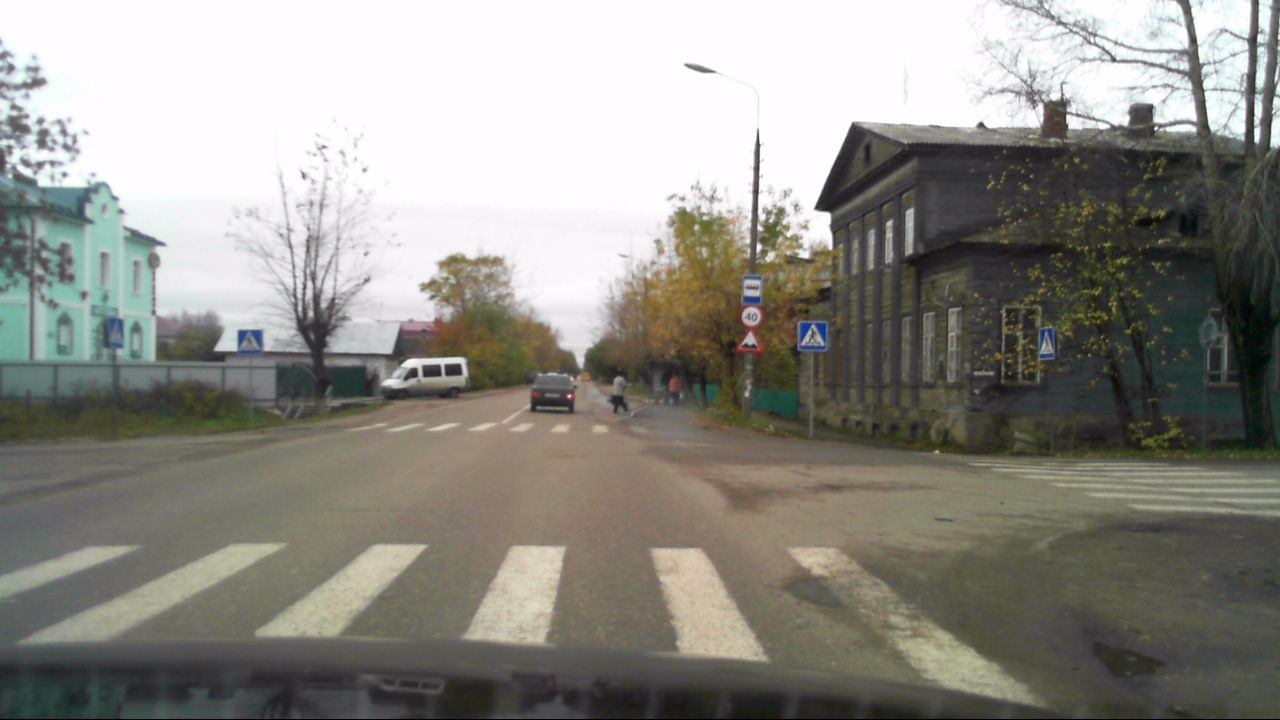speed_warning_40: (740, 305, 761, 327)
